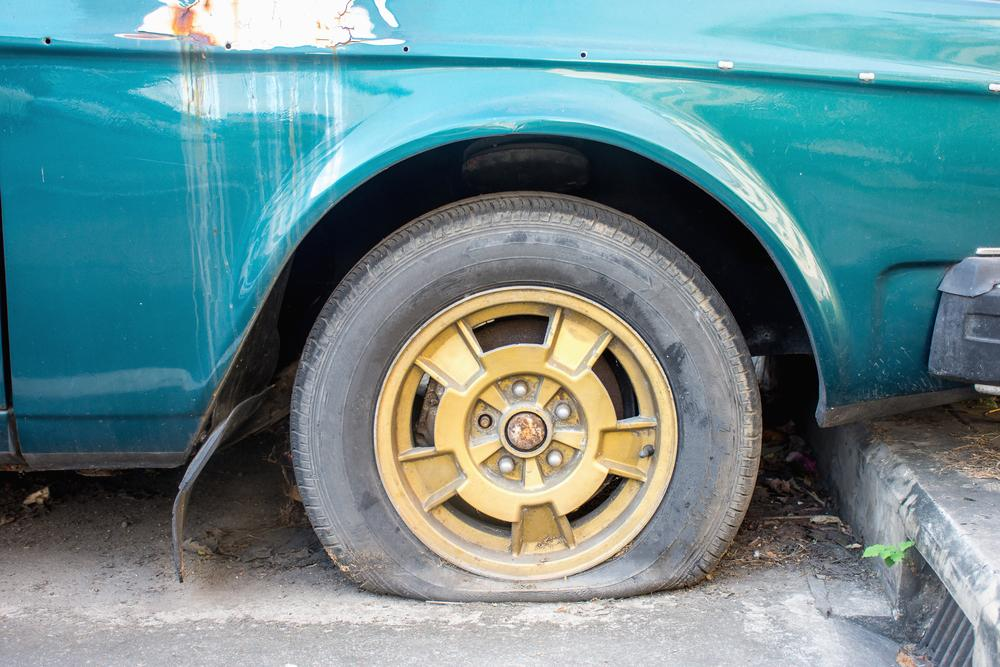tire flat: (296, 184, 759, 601)
